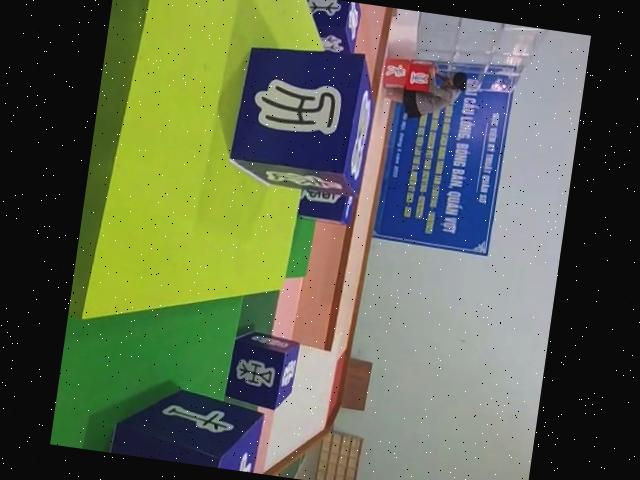R2 Fake Blue: (222, 39, 379, 201)
R2 Real Blue: (99, 380, 266, 473), (223, 326, 301, 412), (292, 0, 360, 53)
